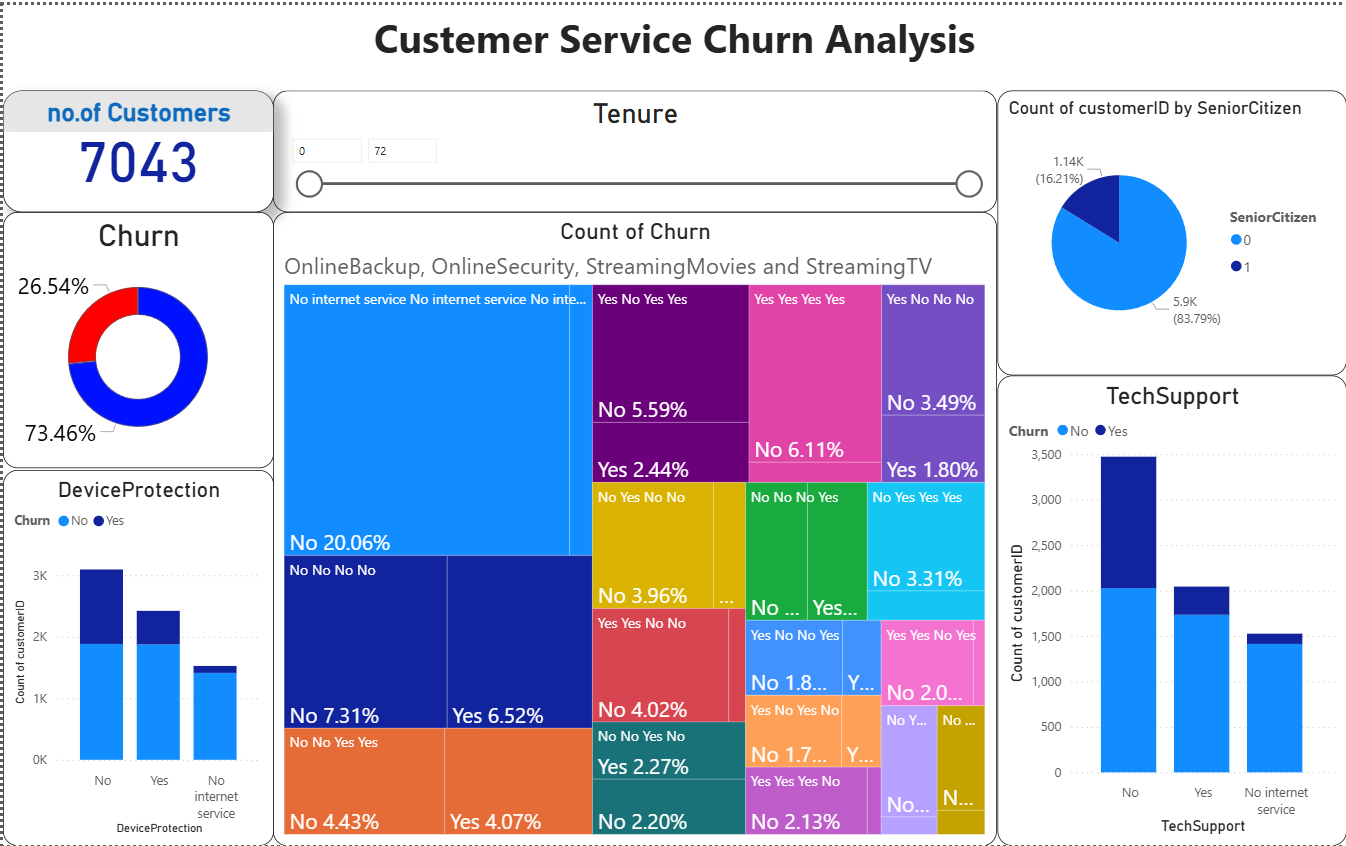

What the dashboard file says about the page in this screenshot:
{"tool":"powerbi","page":{"name":"Page 2","canvas":[1280,800],"ordinal":1},"visuals":[{"type":"pieChart","fields":{"Category":["Customer_Churn.SeniorCitizen"],"Y":["CountNonNull(Customer_Churn.customerID)"]},"box":[946.9,80.8,332.4,271.4],"z":0},{"type":"slicer","title":"Tenure","fields":{"Values":["Customer_Churn.tenure"]},"box":[257.7,80.8,689.2,115.9],"z":1000},{"type":"treemap","title":"Count of Churn","fields":{"Group":["Customer_Churn.OnlineBackup","Customer_Churn.OnlineSecurity","Customer_Churn.StreamingMovies","Customer_Churn.StreamingTV"],"Values":["CountNonNull(Customer_Churn.customerID)"],"Details":["Customer_Churn.Churn"]},"box":[257.7,196.7,689.2,603.8],"z":2000},{"type":"columnChart","title":"TechSupport","fields":{"Y":["CountNonNull(Customer_Churn.customerID)"],"Category":["Customer_Churn.TechSupport"],"Series":["Customer_Churn.Churn"]},"box":[946.9,352.2,332.4,448.3],"z":3000},{"type":"columnChart","title":"DeviceProtection","fields":{"Y":["CountNonNull(Customer_Churn.customerID)"],"Series":["Customer_Churn.Churn"],"Category":["Customer_Churn.DeviceProtection"]},"box":[0,442.2,257.7,358.3],"z":4000},{"type":"card","title":"no.of Customers","fields":{"Values":["CountNonNull(Customer_Churn.customerID)"]},"box":[0,80.8,257.7,115.9],"z":5000},{"type":"donutChart","title":"Churn","fields":{"Category":["Customer_Churn.Churn"],"Y":["CountNonNull(Customer_Churn.customerID)"]},"box":[0,196.7,257.7,244],"z":6000},{"type":"textbox","box":[0,0,1279.3,70.1],"z":6001}]}

Visuals, with their boxes in screenshot pixels (x1, y1, x2, y2), scaled from the page's 1280x800 canvas onto the 1346x846 screenshot:
pieChart - Customer_Churn.SeniorCitizen x CountNonNull(Customer_Churn.customerID): (996, 85, 1345, 372)
"Tenure" slicer: (271, 85, 996, 208)
"Count of Churn" treemap: (271, 208, 996, 845)
"TechSupport" columnChart: (996, 372, 1345, 845)
"DeviceProtection" columnChart: (0, 468, 271, 845)
"no.of Customers" card: (0, 85, 271, 208)
"Churn" donutChart: (0, 208, 271, 466)
textbox: (0, 0, 1345, 74)
